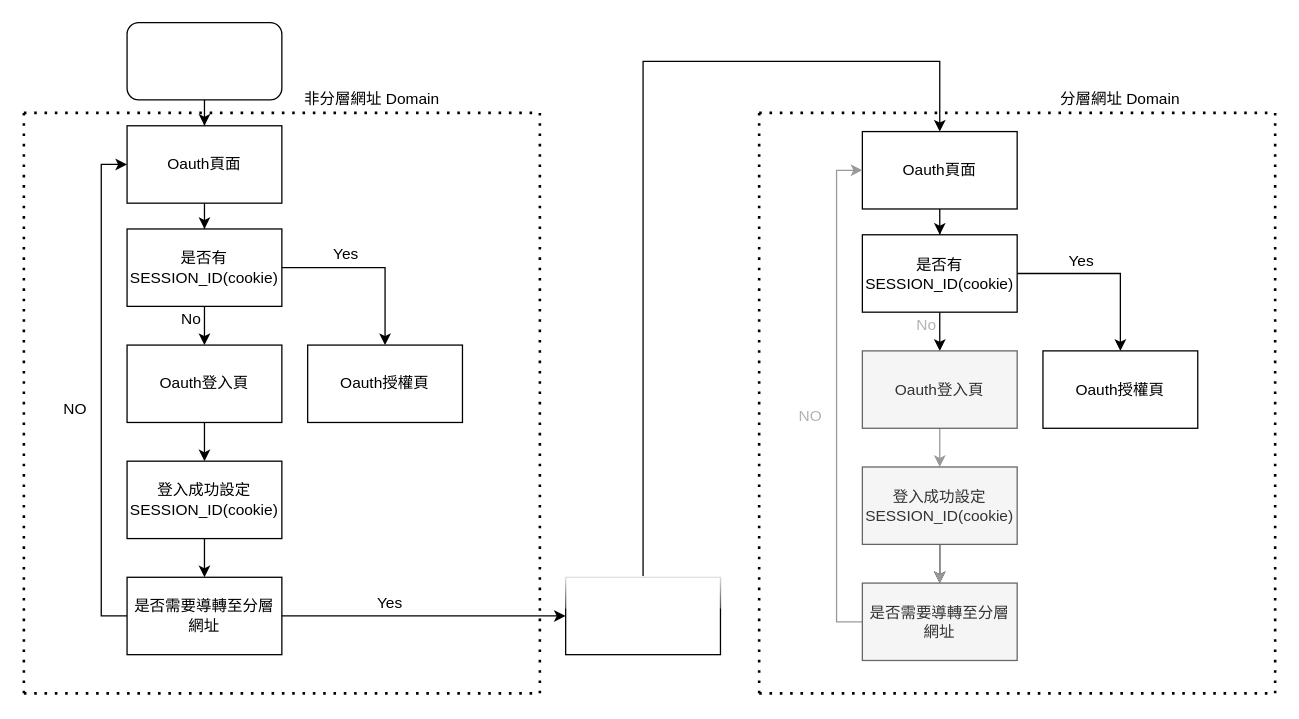
Some shapes in this 1299 by 719 pixel diagram are drawn without their labels. Here are the shapes that lost their labels. From the top down, the centre of each, then its label:
[204,60]: 業主登入頁面
[642,615]: 後端網址設定 分層網址登入 (SESSION_ID)
